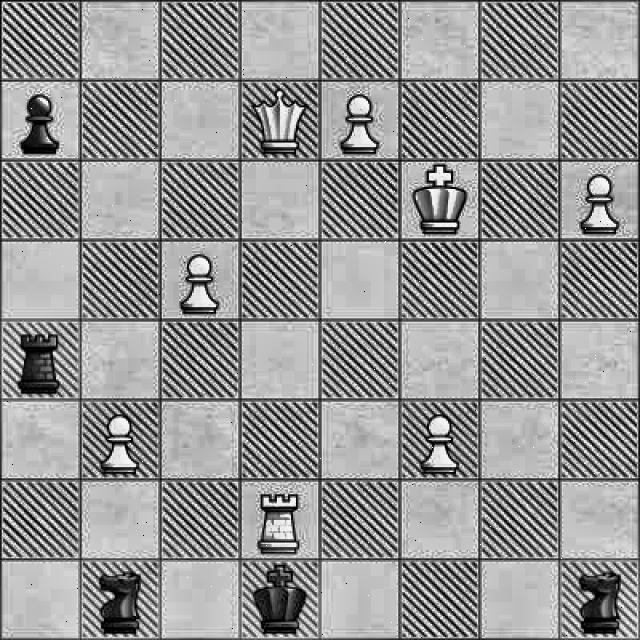Black Knight: (86, 560, 148, 640), (572, 564, 634, 638)
black king: (254, 561, 312, 640)
black pawn: (6, 84, 74, 158)
black rook: (0, 323, 79, 403)
white king: (404, 162, 478, 238)
white pawn: (170, 252, 230, 320), (91, 412, 149, 478), (336, 89, 388, 160), (418, 410, 470, 476), (577, 168, 624, 238)
white queen: (250, 86, 312, 160)
white rook: (250, 488, 302, 560)
